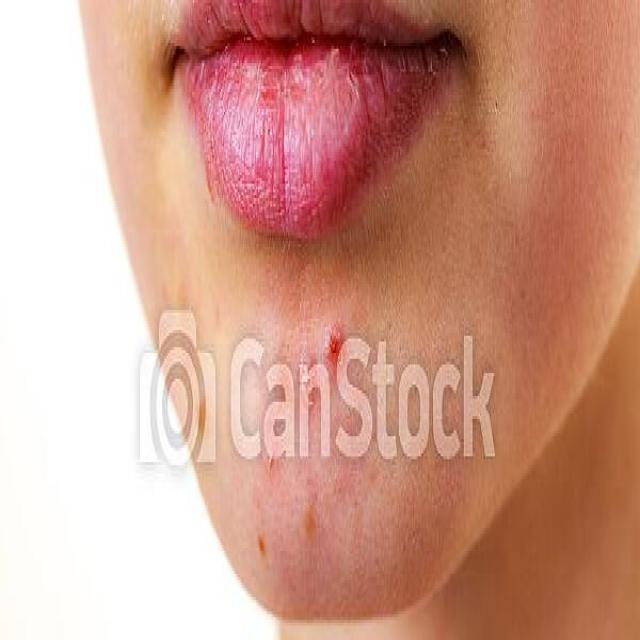Pimples: (326, 312, 342, 368), (306, 491, 316, 548), (256, 531, 269, 560)
